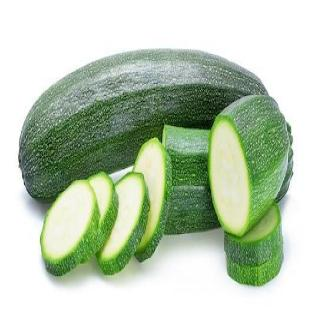Zucchini: (19, 50, 266, 200), (208, 95, 289, 236), (163, 125, 219, 233), (41, 180, 99, 275), (97, 172, 149, 274), (134, 138, 171, 261), (225, 204, 282, 266), (83, 172, 118, 262), (162, 125, 208, 185), (165, 185, 219, 235), (227, 249, 283, 285)
